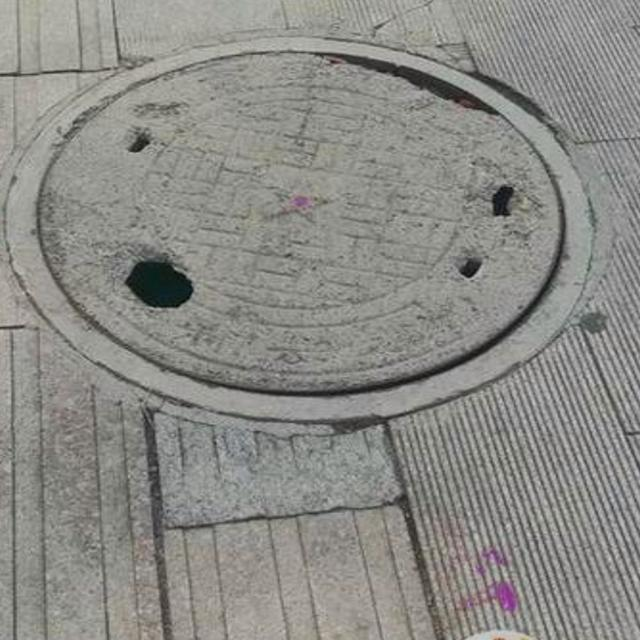broke: (0, 0, 639, 438)
